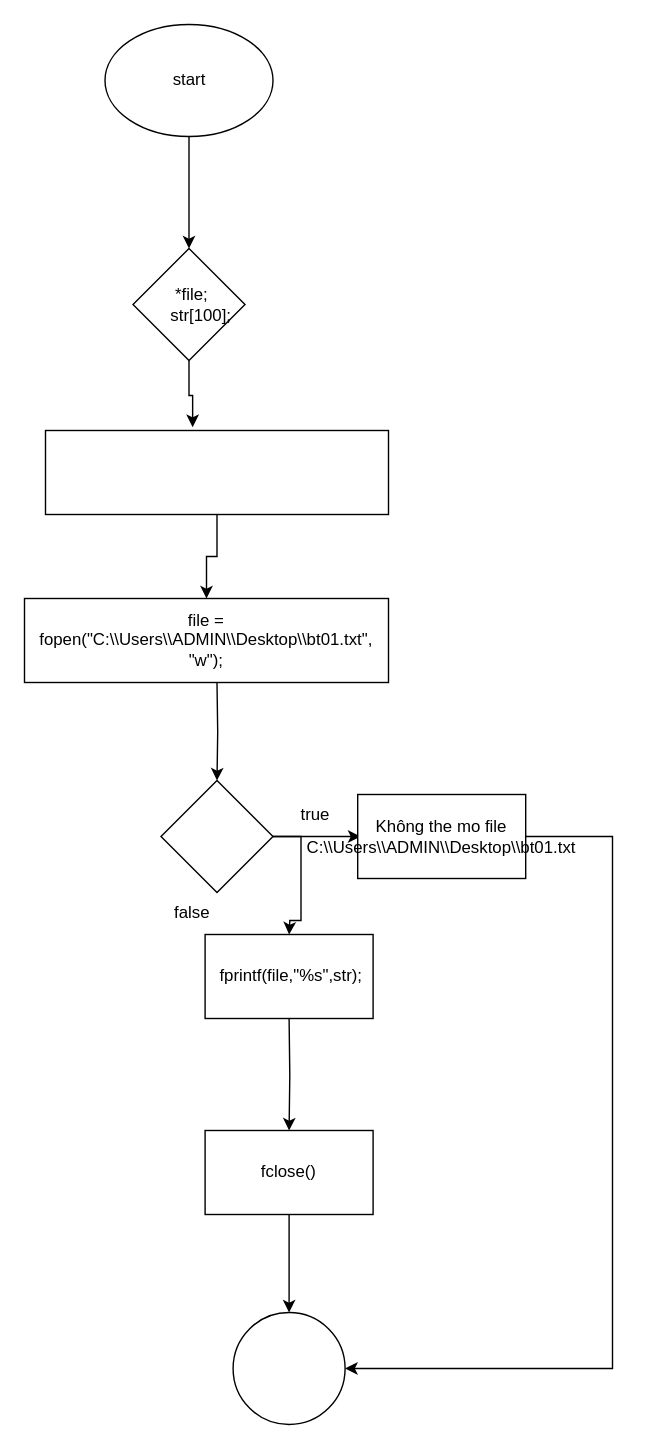
Image size: 648x1449. Some labels were removed from this diagram. Here are the shapes that lost their labels. From the top down, the centre of each, then its label:
At point (216, 471): "fwrite(str,sizeof(char),1,file);".
At point (216, 835): "file== NULL".
At point (288, 1367): "end".
